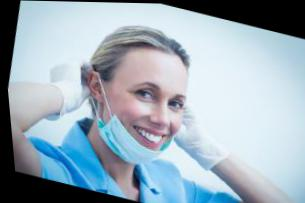WRONG: (90, 55, 196, 175)
